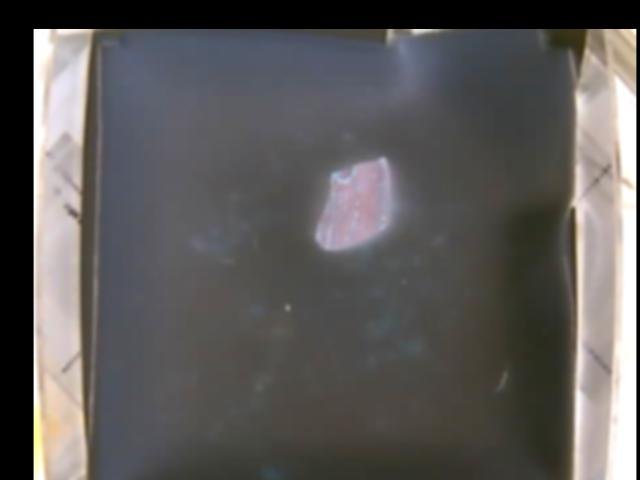China: (312, 157, 393, 254)
